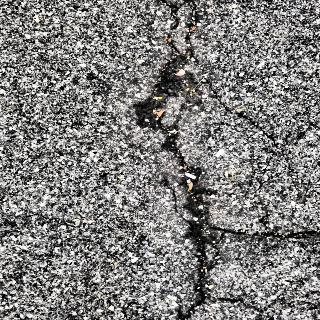crack: (123, 15, 234, 299)
